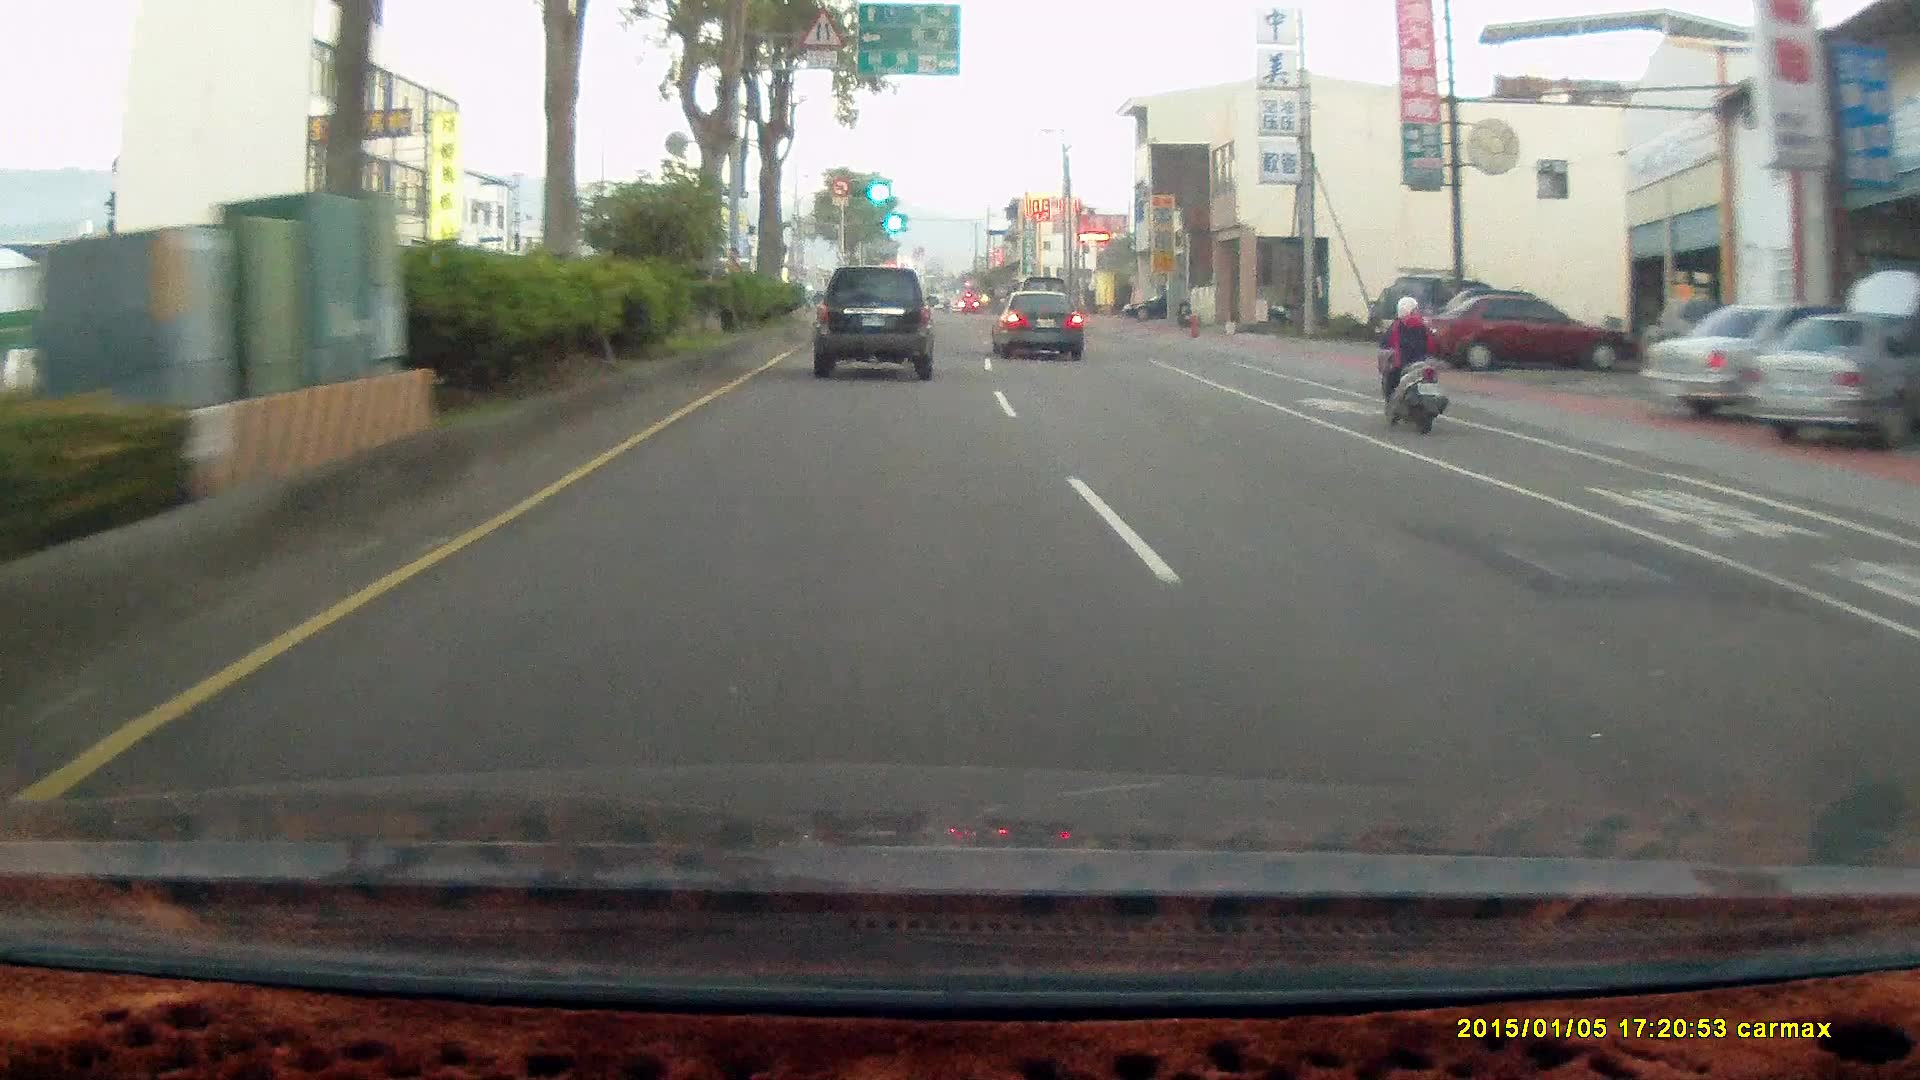rider: (1361, 279, 1458, 445), (1371, 293, 1445, 433)
vehicle: (1643, 306, 1867, 429), (1737, 315, 1919, 449), (1735, 315, 1920, 444), (1415, 297, 1629, 380), (1410, 294, 1635, 372), (811, 272, 938, 387), (813, 269, 935, 383), (1376, 273, 1508, 363), (1376, 273, 1501, 357), (993, 291, 1087, 362), (988, 287, 1082, 358), (1121, 293, 1192, 322)
